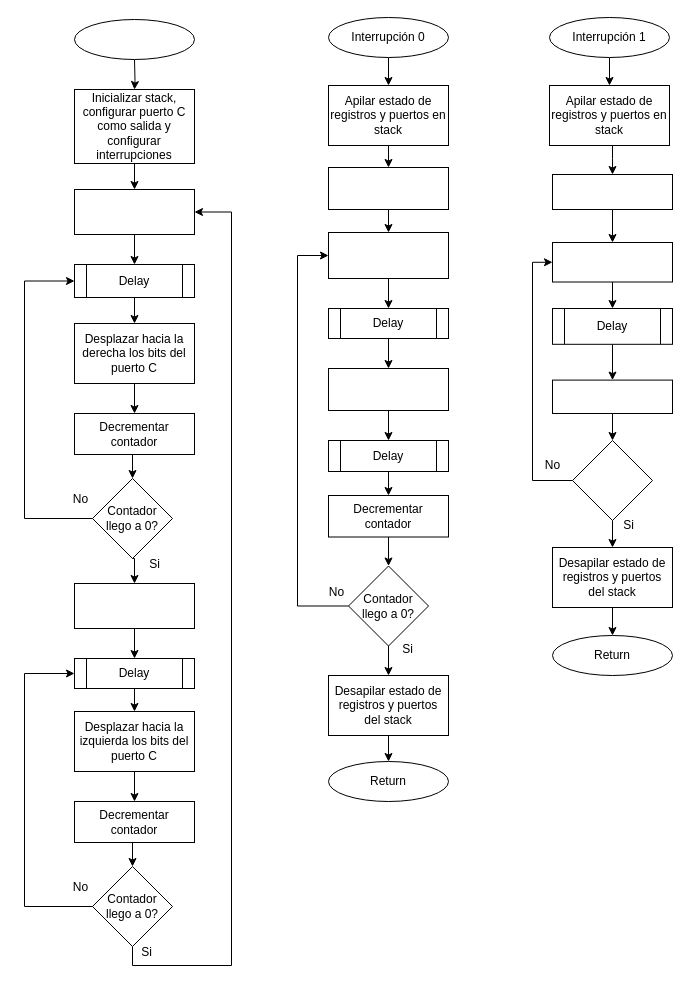
This 690x991 diagram has some shape labels left out. The shapes that lost their labels are listed below. From the top down, each one's centre as x and y in pixels, then its label:
(134,39): Inicio
(388,188): Apagar leds e inicializar contador en 15
(612,192): Inicializar contador en 0
(134,211): Encender led 5 e inicializar contador
(388,255): Encender leds de los extremos
(612,262): Mover valor del contador al puerto C
(388,389): Apagar leds de los extremos
(612,396): Incrementar contador
(612,480): Contador llego a 64?
(134,605): Inicializar contador
